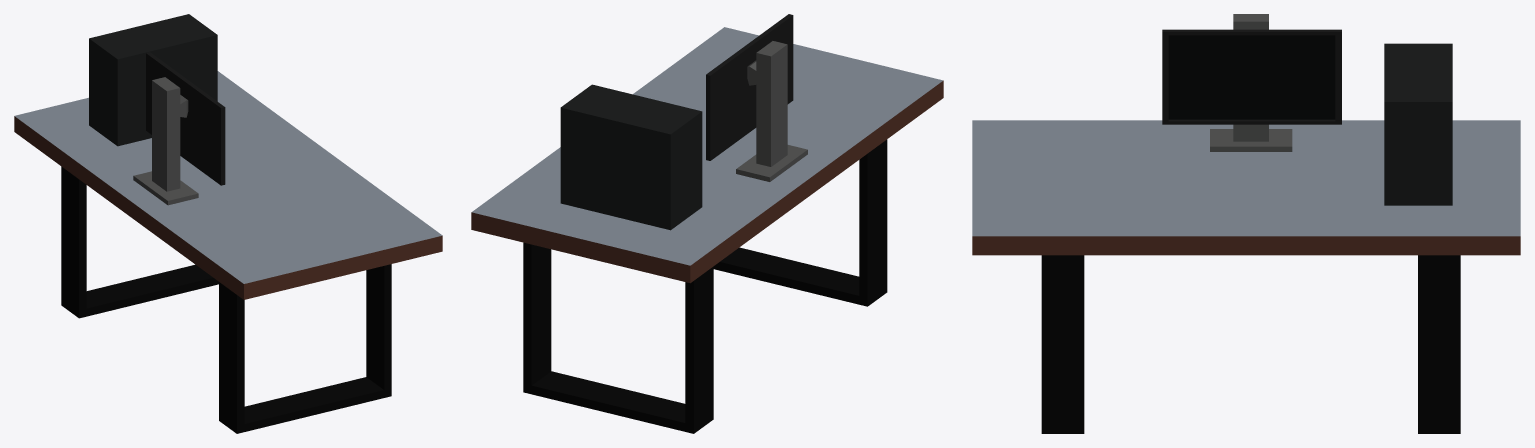
The model's file is BancoBlender.fbx.
The picture shows the model from 3 angles, left to right: view 1: azimuth 30°, elevation 25°; view 2: azimuth 150°, elevation 25°; view 3: azimuth 270°, elevation 25°; orthographic projection. The views are drawn at different scales.
Parts seen in each view (by area): view 1: Monitor; view 2: Monitor; view 3: Monitor.
Part boxes in pixels (x1=…): Monitor: x1=14, y1=14, x2=442, y2=433; Monitor: x1=471, y1=14, x2=943, y2=433; Monitor: x1=972, y1=14, x2=1520, y2=433.
Size of the model in its own units: 257 by 347 by 514.
